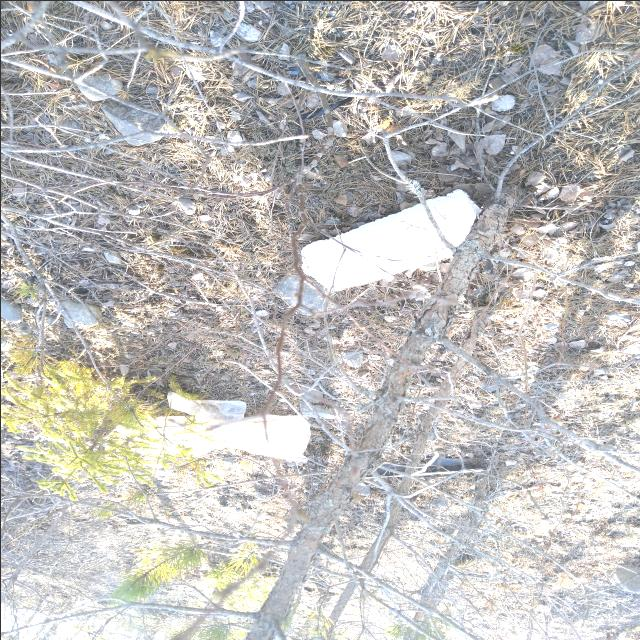Plastic film: (113, 390, 310, 462)
Styrofoam piece: (300, 188, 481, 291)
